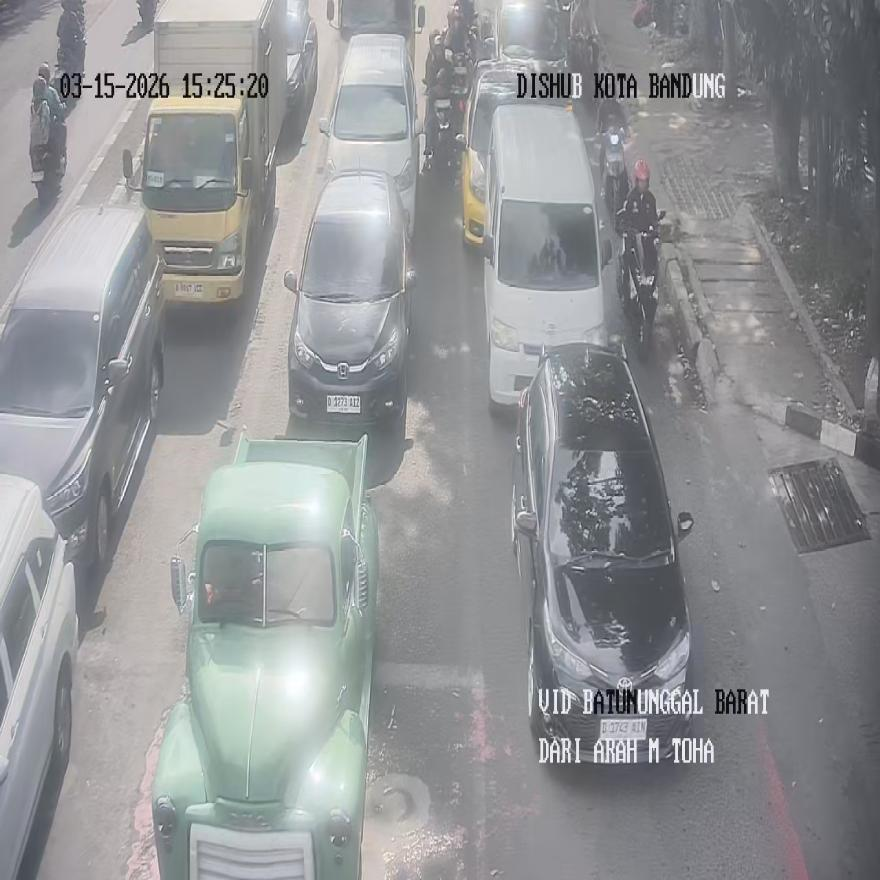Mobil: (150, 428, 379, 877), (511, 341, 694, 760), (0, 204, 165, 571), (481, 100, 611, 405), (284, 166, 417, 427), (0, 474, 78, 878), (318, 31, 420, 240), (326, 0, 423, 76)
